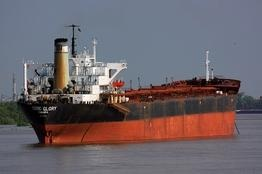Cargoship: (13, 23, 242, 144)
